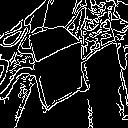cube: (18, 20, 86, 111)
